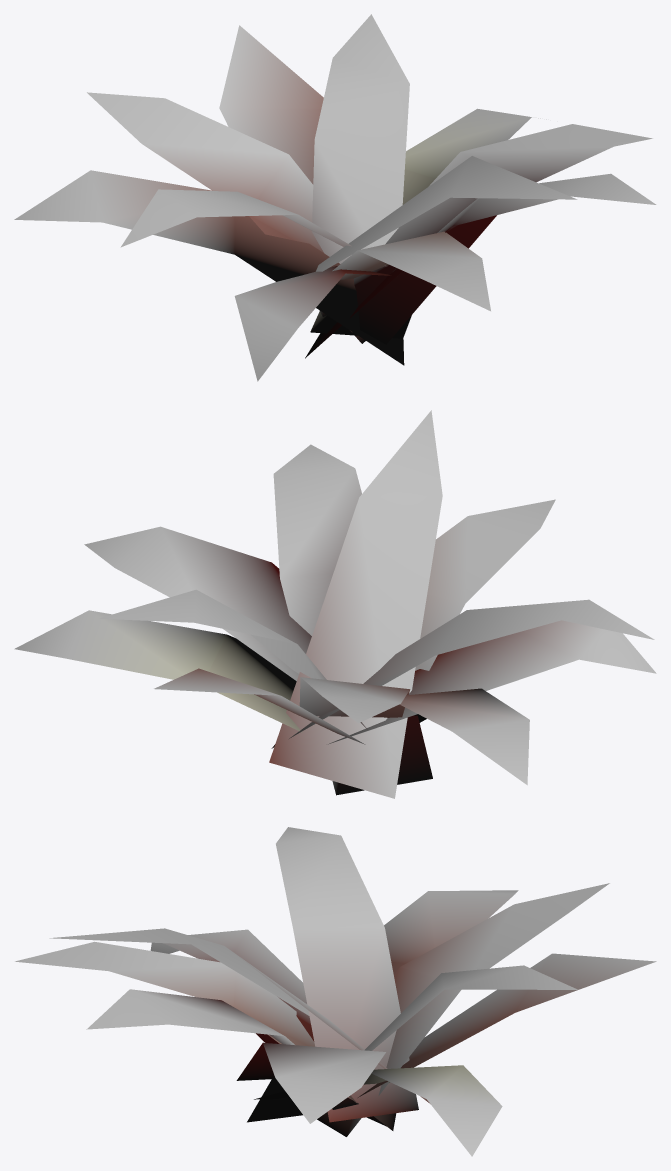
Rendered from SM_GDI_INN_Bush04_B1.fbx.
3 views of the same model, one above another, from view 1: azimuth 30°, elevation 25°; view 2: azimuth 150°, elevation 25°; view 3: azimuth 270°, elevation 25° (orthographic). The views are drawn at different scales.
Visible parts, largest first — view 1: SM_GDI_INN_Bush04_B1_LOD0; view 2: SM_GDI_INN_Bush04_B1_LOD0; view 3: SM_GDI_INN_Bush04_B1_LOD0.
Part boxes in pixels (bbox=[...]): SM_GDI_INN_Bush04_B1_LOD0: bbox=[14, 14, 656, 381]; SM_GDI_INN_Bush04_B1_LOD0: bbox=[14, 410, 656, 798]; SM_GDI_INN_Bush04_B1_LOD0: bbox=[15, 827, 656, 1156].
Bounding box in the file's own units: 243 × 97.95 × 249.
